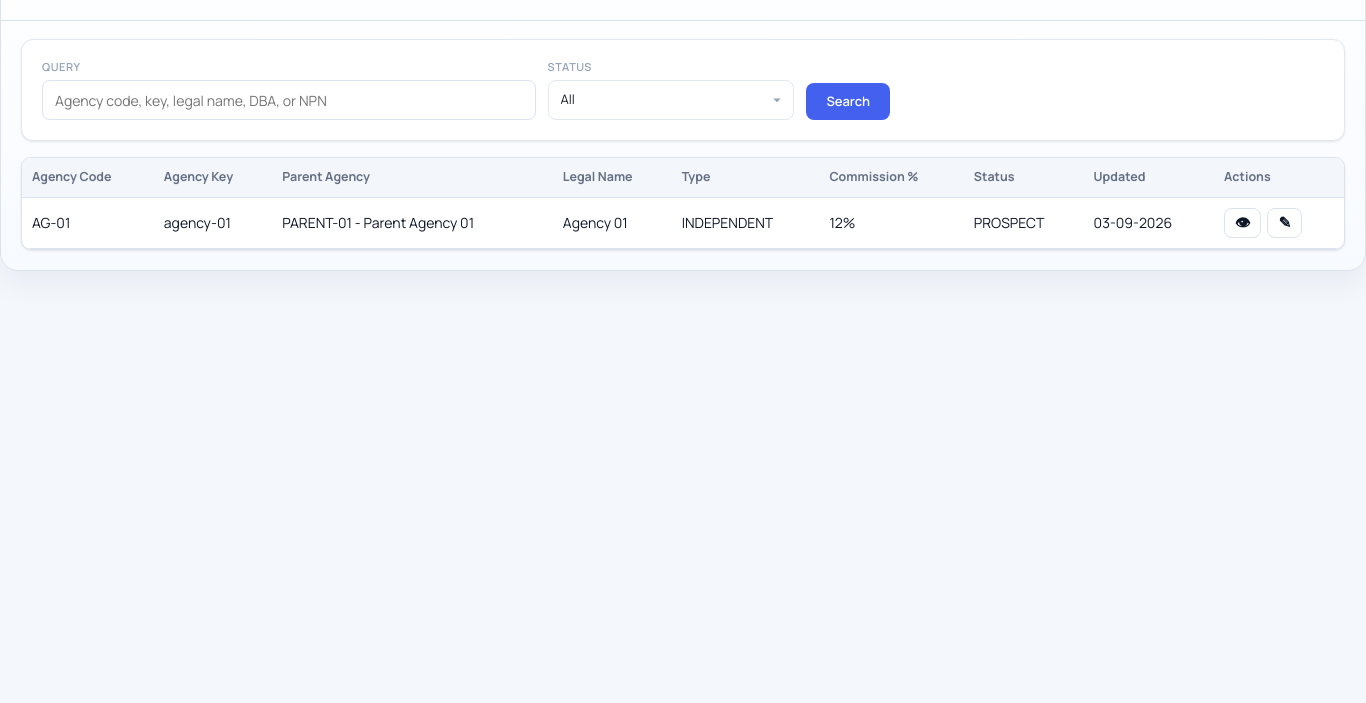
Test case: AgencyOnboardingPage › opens agency details in edit mode when clicking Edit
Click the button named "Edit agency AG-01" at (1285, 223), box [1267, 208, 1302, 238]
(page scrolled)
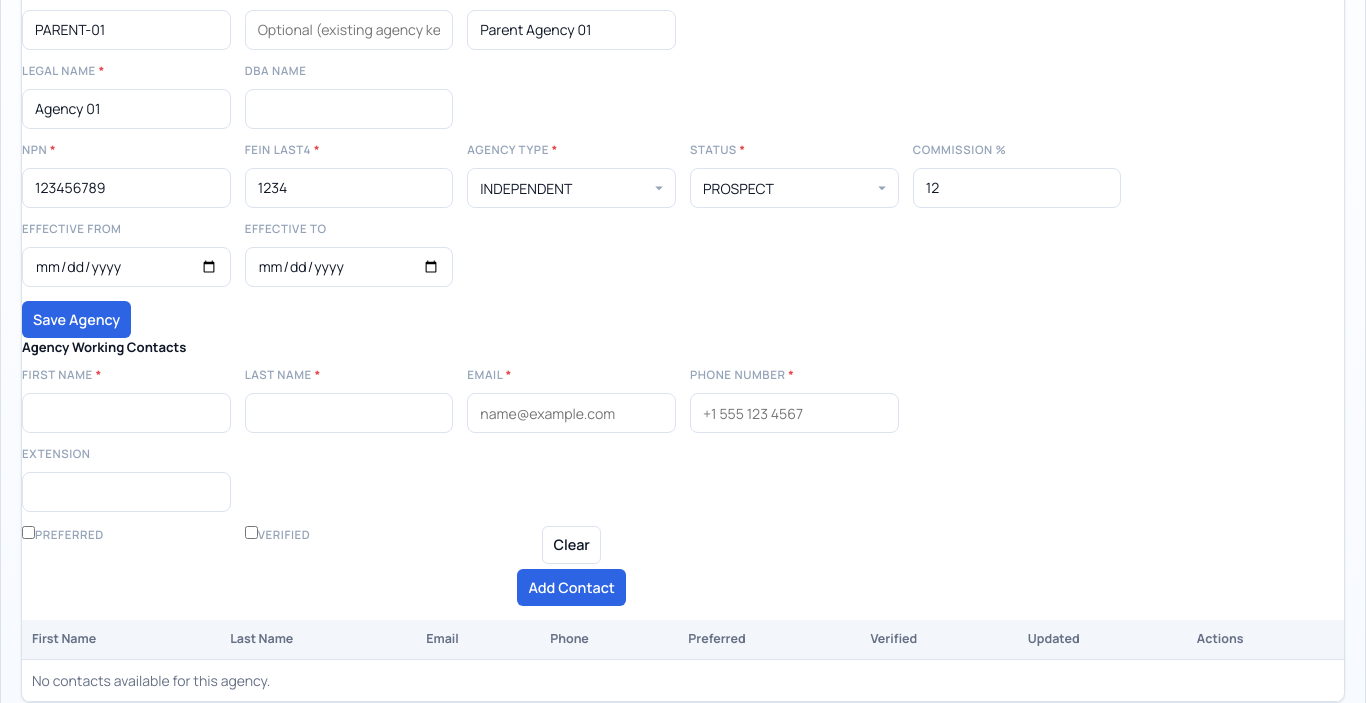
Expected: the button "Save Agency" is enabled, [22, 301, 131, 338]
